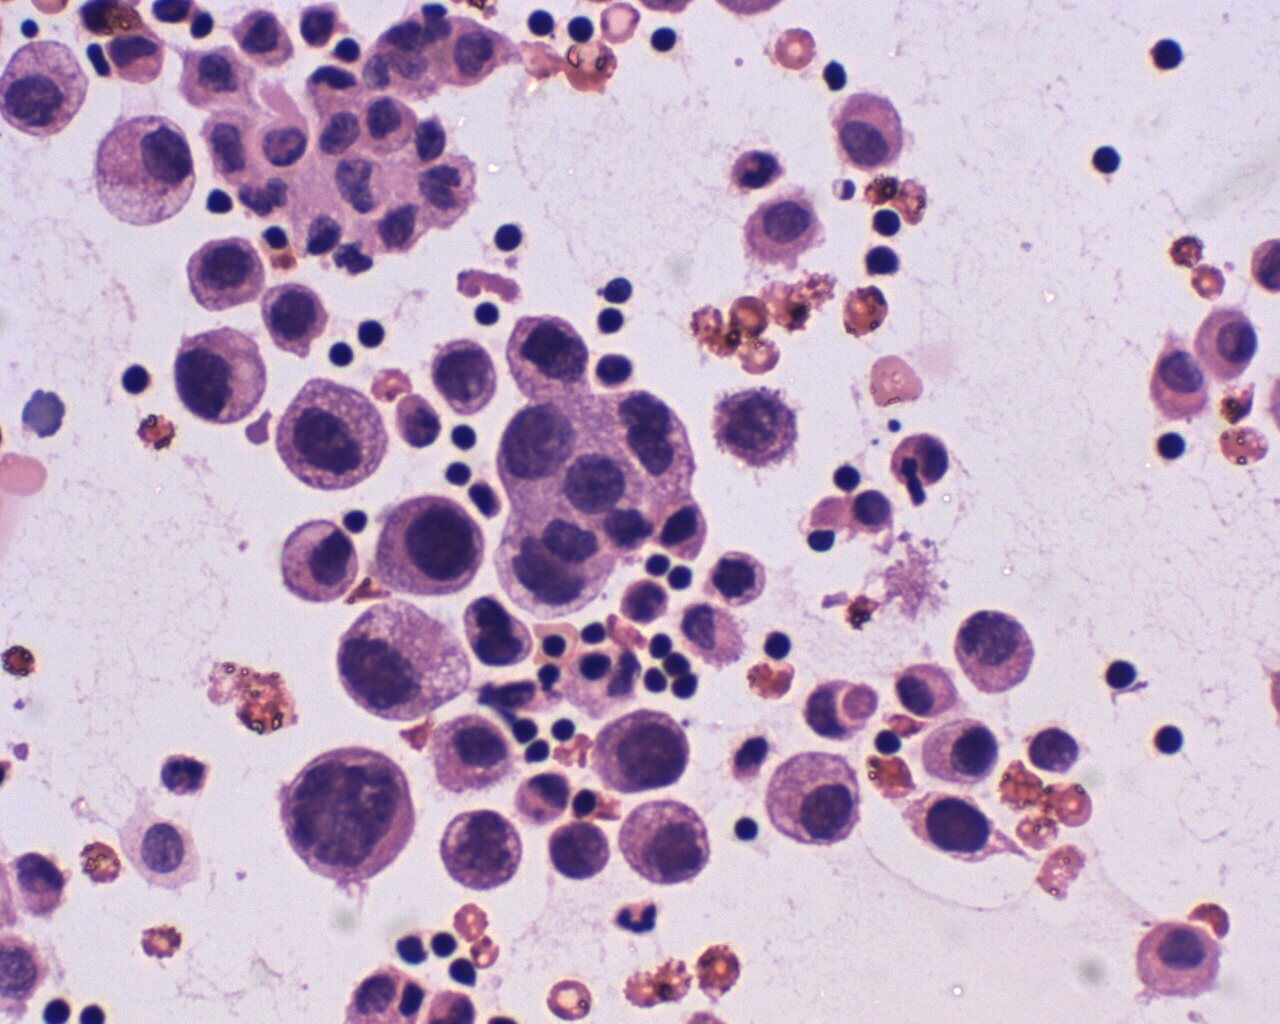ab: (282, 738, 417, 892), (338, 596, 473, 722), (273, 378, 390, 497), (375, 489, 497, 597), (170, 323, 273, 426), (491, 308, 596, 401), (615, 795, 718, 889), (587, 709, 693, 795), (438, 806, 533, 897), (715, 382, 802, 472), (183, 228, 264, 320), (260, 270, 333, 360), (426, 336, 504, 415)
lymph: (1081, 140, 1130, 180), (486, 216, 531, 256), (353, 316, 393, 356), (118, 359, 160, 398)
meso: (1126, 915, 1226, 1003), (824, 89, 916, 167), (735, 196, 827, 269), (1198, 307, 1263, 385), (1151, 340, 1213, 420), (892, 658, 957, 718)
neutro: (609, 890, 670, 940)
